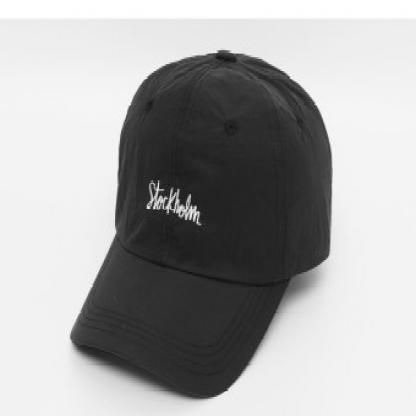cap: (60, 38, 340, 400)
